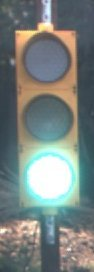Green: (3, 16, 89, 233)
